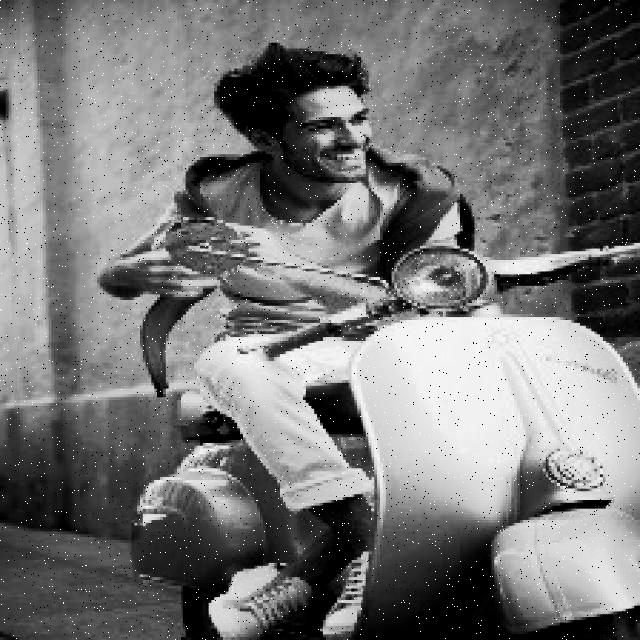Bike: (292, 249, 631, 640)
